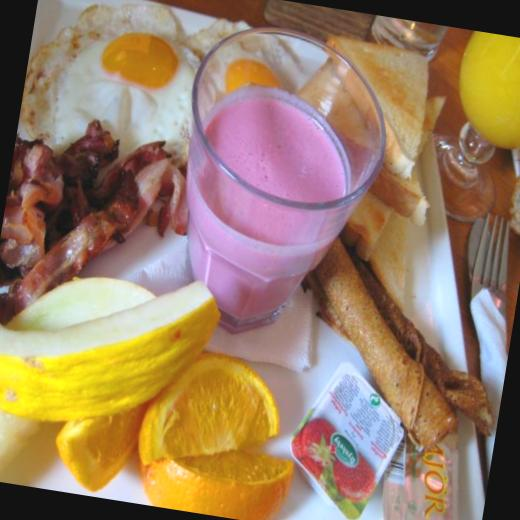Grape: (110, 319, 297, 488)
